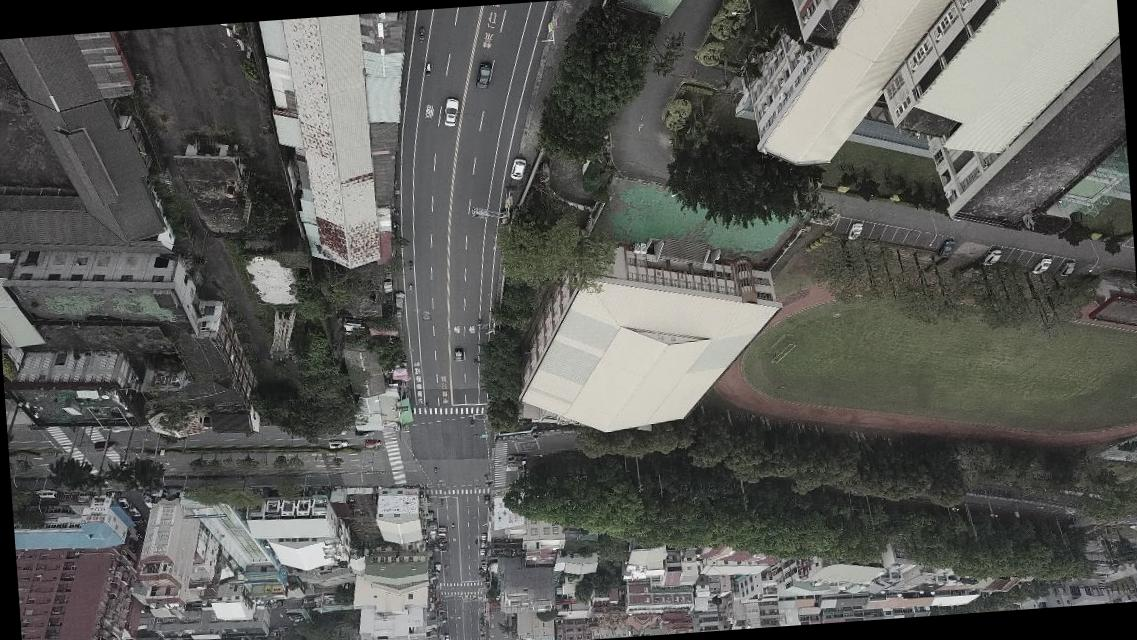vehicle: (441, 96, 460, 127), (472, 61, 492, 89), (508, 156, 528, 180), (981, 248, 1001, 267), (1031, 258, 1052, 274), (937, 238, 954, 257), (846, 222, 863, 240), (1058, 260, 1076, 276), (326, 439, 348, 449), (392, 290, 404, 308), (362, 438, 382, 448), (353, 429, 374, 438), (452, 348, 462, 362)
